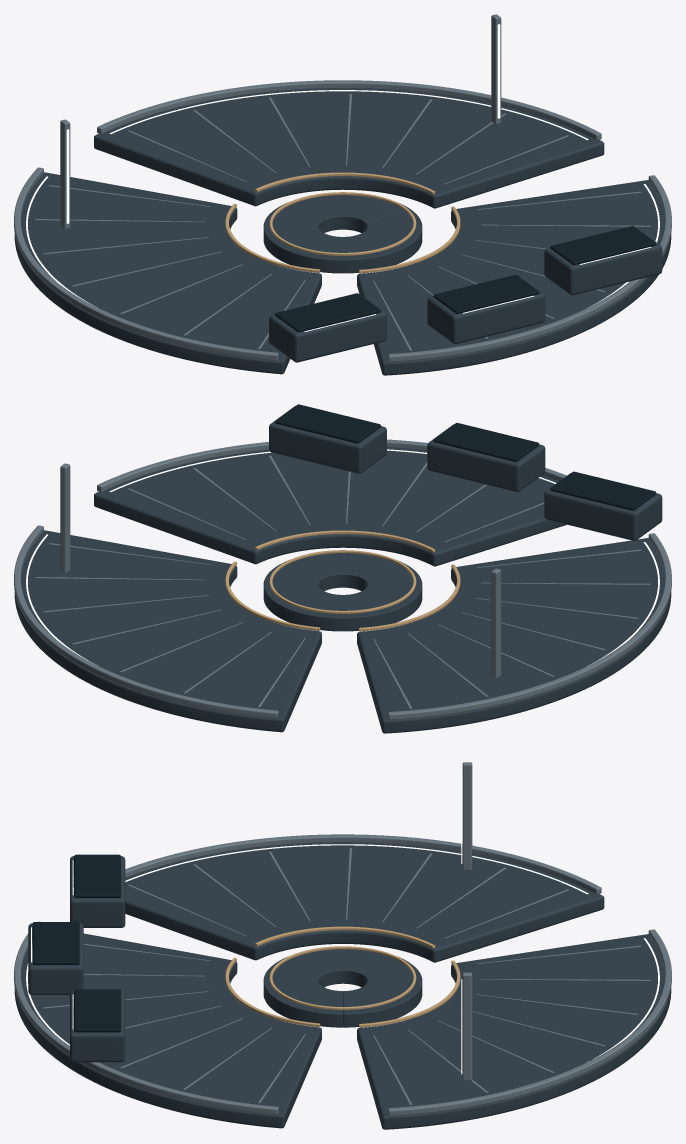
File: hermes-command-r37.glb
3 renders of one model, top to bottom at view 1: azimuth 30°, elevation 25°; view 2: azimuth 150°, elevation 25°; view 3: azimuth 270°, elevation 25°, orthographic.
Parts seen in each view (by area): view 1: Terrace_0, Terrace_1, Terrace_2, Core_cradle, Outer_rail_0, Console_2, Console_1, Console_0, Outer_rail_1, Outer_rail_2, Console_top_2, Console_top_0 (+8 smaller); view 2: Terrace_0, Terrace_1, Terrace_2, Core_cradle, Console_0, Console_1, Console_2, Outer_rail_1, Outer_rail_0, Console_top_0, Console_top_1, Console_top_2 (+7 smaller); view 3: Terrace_1, Terrace_0, Terrace_2, Core_cradle, Outer_rail_1, Outer_rail_0, Outer_rail_2, Console_2, Console_top_0, Console_top_2, Console_top_1, Console_1 (+8 smaller).
Boxes of the visible parts, left/top/right/bottom form: Terrace_0: left=94, top=88, right=604, bottom=208; Terrace_1: left=14, top=172, right=321, bottom=374; Terrace_2: left=357, top=180, right=671, bottom=375; Core_cradle: left=263, top=195, right=422, bottom=273; Outer_rail_0: left=97, top=80, right=601, bottom=140; Console_2: left=544, top=227, right=662, bottom=295; Console_1: left=427, top=276, right=545, bottom=343; Console_0: left=269, top=294, right=386, bottom=362; Outer_rail_1: left=14, top=167, right=278, bottom=360; Outer_rail_2: left=388, top=175, right=671, bottom=362; Console_top_2: left=550, top=226, right=656, bottom=265; Console_top_0: left=275, top=293, right=380, bottom=332; Terrace_0: left=14, top=530, right=321, bottom=732; Terrace_1: left=357, top=538, right=671, bottom=733; Terrace_2: left=94, top=448, right=566, bottom=566; Core_cradle: left=263, top=553, right=422, bottom=631; Console_0: left=544, top=473, right=662, bottom=540; Console_1: left=427, top=424, right=545, bottom=491; Console_2: left=269, top=406, right=386, bottom=473; Outer_rail_1: left=388, top=533, right=671, bottom=720; Outer_rail_0: left=14, top=525, right=278, bottom=718; Console_top_0: left=550, top=471, right=656, bottom=510; Console_top_1: left=433, top=423, right=539, bottom=461; Console_top_2: left=275, top=404, right=380, bottom=443; Terrace_1: left=125, top=842, right=604, bottom=962; Terrace_0: left=357, top=934, right=671, bottom=1129; Terrace_2: left=14, top=933, right=321, bottom=1128; Core_cradle: left=263, top=949, right=422, bottom=1027; Outer_rail_1: left=125, top=834, right=601, bottom=894; Outer_rail_0: left=388, top=929, right=671, bottom=1116; Outer_rail_2: left=14, top=921, right=278, bottom=1114; Console_2: left=70, top=990, right=125, bottom=1062; Console_top_0: left=74, top=854, right=120, bottom=897; Console_top_2: left=74, top=989, right=120, bottom=1032; Console_top_1: left=32, top=922, right=79, bottom=964; Console_1: left=28, top=923, right=83, bottom=994.
Bounding box in the file's own units: 9.47 × 2.01 × 9.52.
